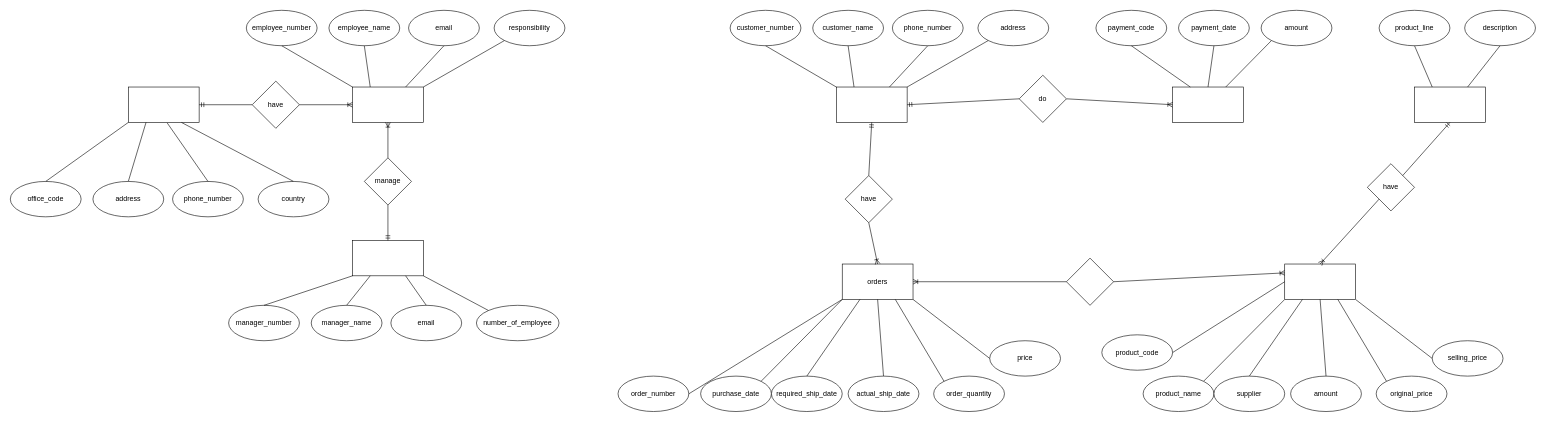
The diagram is 1546 pixels wide and 422 high, and some of its shapes have lost their labels. Each missing label, with the centre of its shape:
"contain" belongs at point 1090,281.
"Customers" belongs at point 871,104.
"employees" belongs at point 387,104.
"managers" belongs at point 387,258.
"office" belongs at point 163,104.
"payments" belongs at point 1207,104.
"products" belongs at point 1320,281.
"products_line" belongs at point 1449,104.
